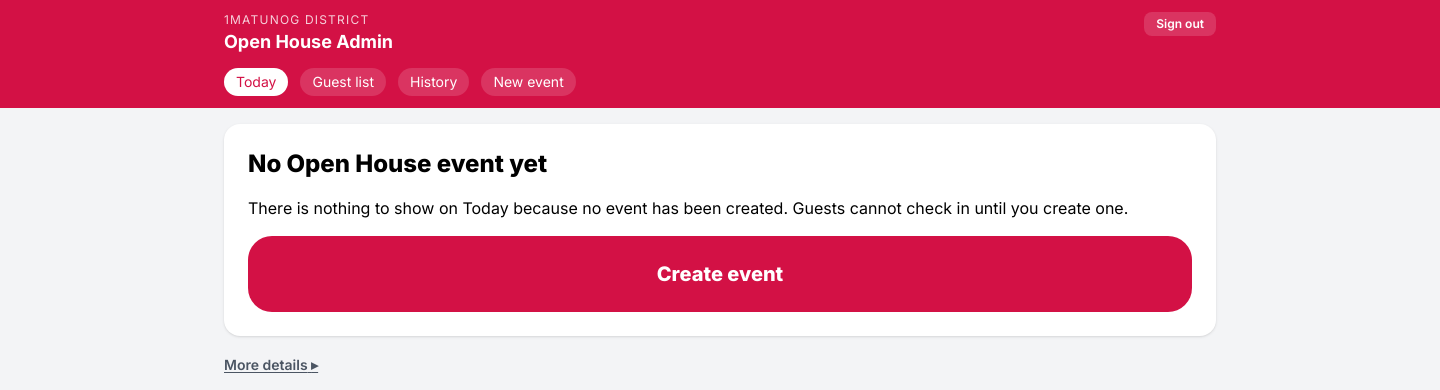
Scenario: AdminApp with an empty database › shows empty states on Guest list and History when there is no event
Expected: the button "Create event" is shown, x1=248 y1=236 x2=1192 y2=312
Click the button "Guest list" at (343, 82), box x1=300 y1=68 x2=386 y2=96
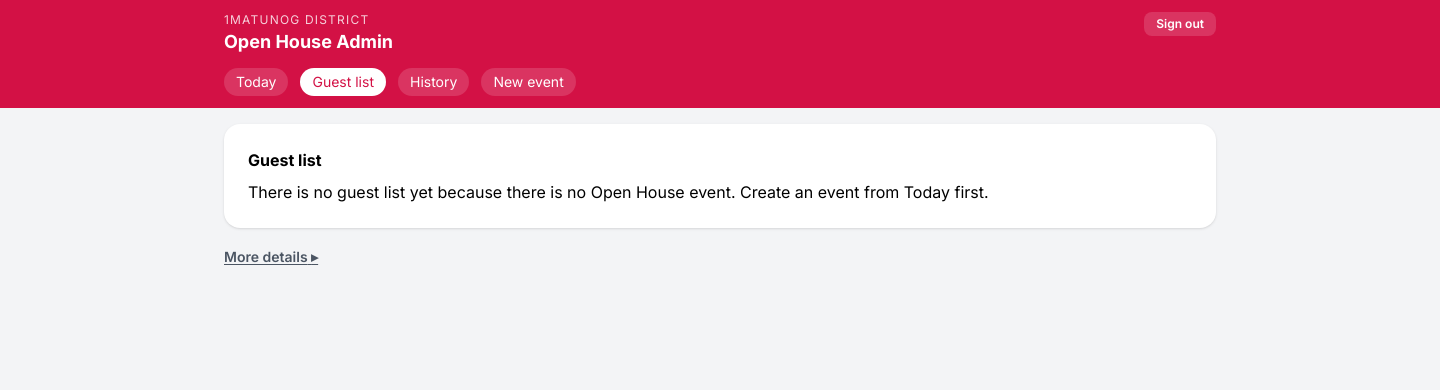
Now the text "There is no guest list yet because there is no Open House event. Create an event from Today first." is shown, box x1=248 y1=182 x2=989 y2=202
Click the button "History" at (434, 82), box x1=398 y1=68 x2=469 y2=96
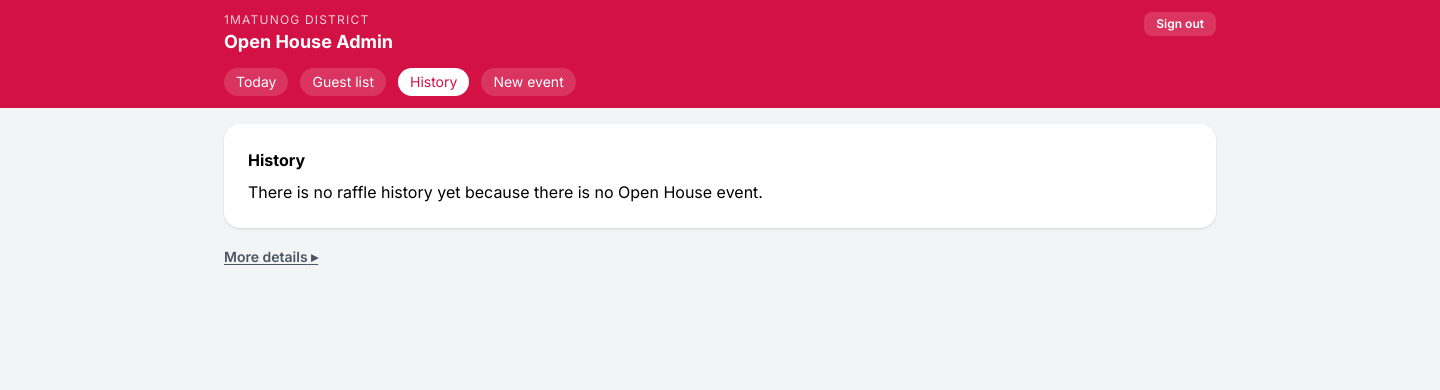
Now the text "There is no raffle history yet because there is no Open House event." is shown, box x1=248 y1=182 x2=763 y2=202
